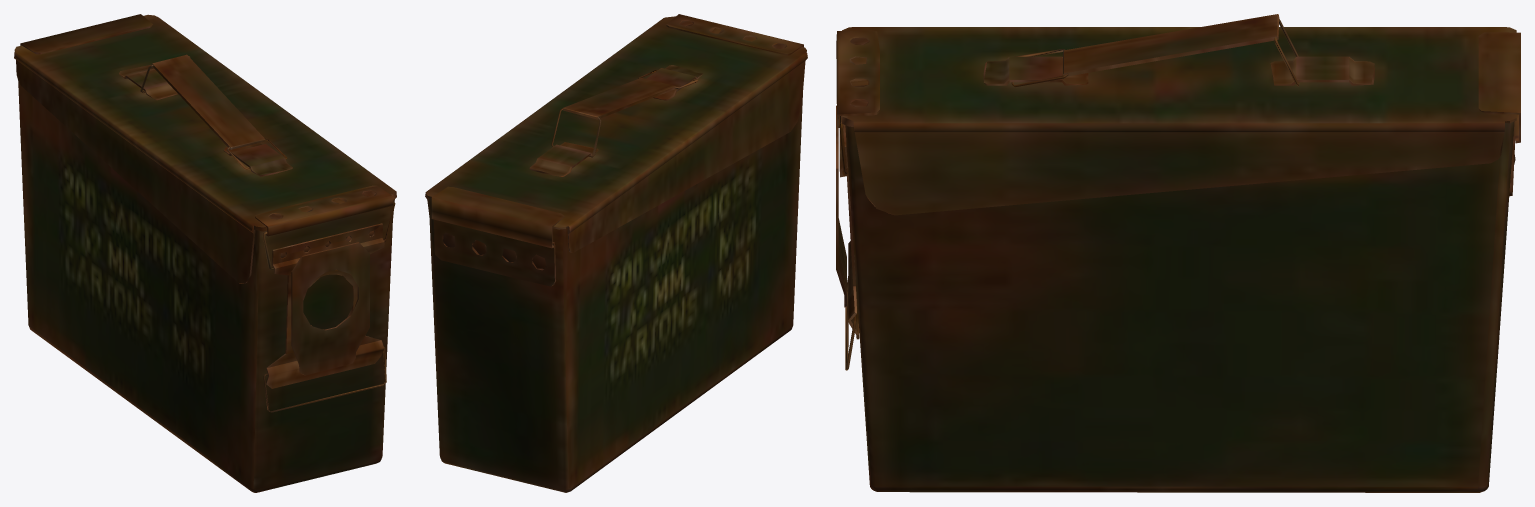
The model's file is ammo_box.glb.
3 views of the same model, side by side, from view 1: azimuth 30°, elevation 25°; view 2: azimuth 150°, elevation 25°; view 3: azimuth 270°, elevation 25° (orthographic). The views are drawn at different scales.
Parts seen in each view (by area): view 1: ammo_box_handle_ring_b; view 2: ammo_box_handle_ring_b; view 3: ammo_box_handle_ring_b.
Boxes of the visible parts, bbox=[...] form: ammo_box_handle_ring_b: bbox=[14, 14, 396, 492]; ammo_box_handle_ring_b: bbox=[425, 14, 807, 492]; ammo_box_handle_ring_b: bbox=[836, 14, 1520, 492].
Size of the model in its own units: 0.0865 by 0.1773 by 0.2576.
1 material, 1 textured.
